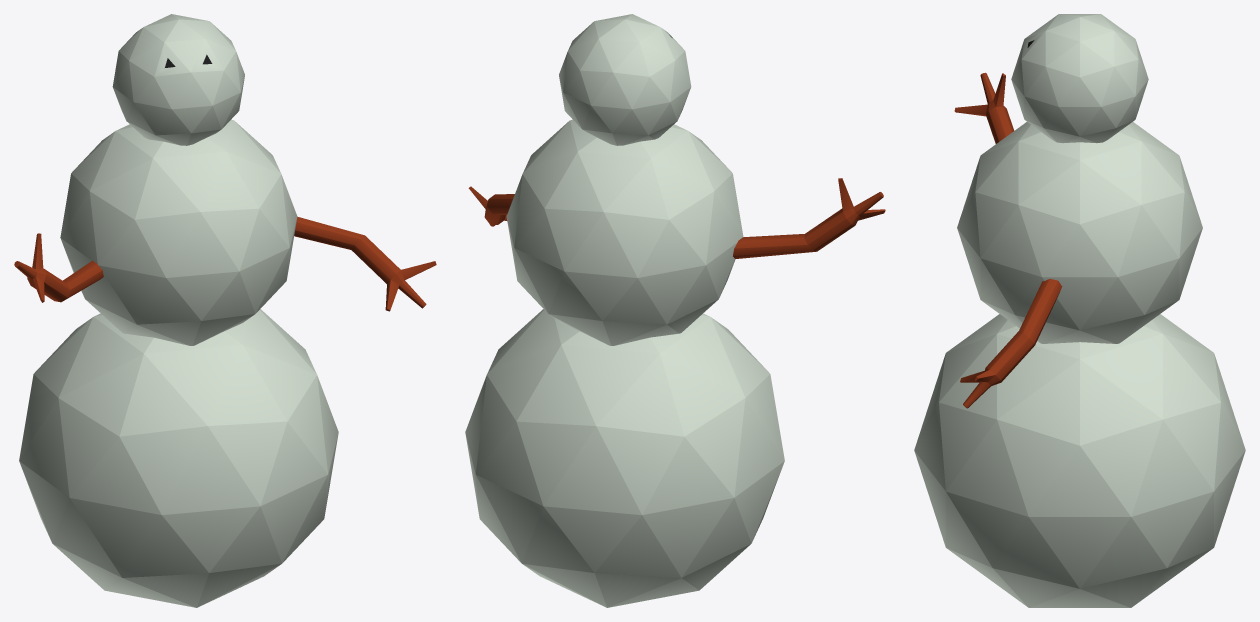
File: Neige_Bonhomme_v1_001.FBX
The picture shows the model from 3 angles, left to right: view 1: azimuth 30°, elevation 25°; view 2: azimuth 150°, elevation 25°; view 3: azimuth 270°, elevation 25°; orthographic projection.
Visible parts, largest first — view 1: GeoSphere012, GeoSphere013, GeoSphere014, Cylinder007, Cylinder008; view 2: GeoSphere012, GeoSphere013, GeoSphere014, Cylinder008, Cylinder007; view 3: GeoSphere012, GeoSphere013, GeoSphere014, Cylinder007, Cylinder008.
Boxes of the visible parts, bbox=[...] form: GeoSphere012: bbox=[19, 309, 338, 607]; GeoSphere013: bbox=[60, 119, 297, 345]; GeoSphere014: bbox=[112, 14, 244, 145]; Cylinder007: bbox=[294, 216, 436, 311]; Cylinder008: bbox=[14, 233, 103, 302]; GeoSphere012: bbox=[465, 309, 784, 607]; GeoSphere013: bbox=[506, 119, 743, 345]; GeoSphere014: bbox=[559, 14, 691, 145]; Cylinder008: bbox=[733, 178, 885, 258]; Cylinder007: bbox=[468, 186, 514, 226]; GeoSphere012: bbox=[914, 314, 1245, 607]; GeoSphere013: bbox=[957, 122, 1202, 343]; GeoSphere014: bbox=[1011, 14, 1148, 143]; Cylinder007: bbox=[960, 279, 1062, 408]; Cylinder008: bbox=[954, 72, 1014, 143].
Bounding box in the file's own units: 96.39 × 127 × 65.3.
